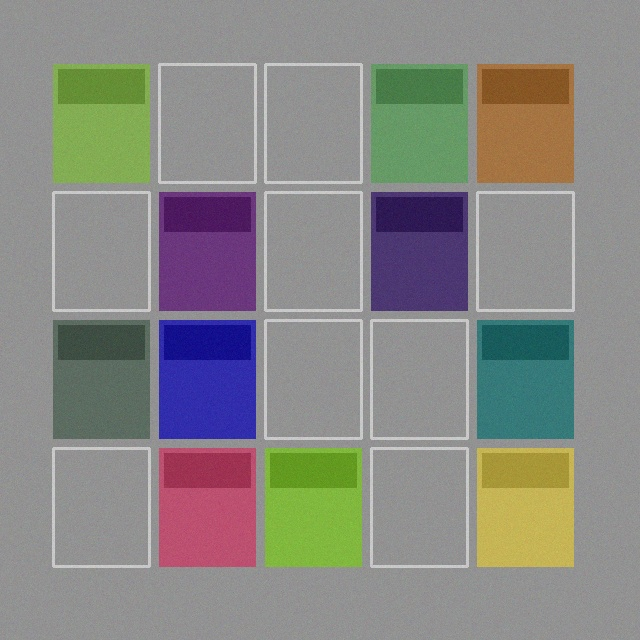space-empty: (159, 64, 255, 182), (265, 64, 361, 182), (53, 192, 149, 310), (265, 192, 361, 310), (477, 192, 573, 310), (265, 320, 361, 438), (371, 320, 467, 438), (53, 448, 149, 566), (371, 448, 467, 566)
space-occupied: (53, 64, 149, 182), (371, 64, 467, 182), (477, 64, 573, 182), (159, 192, 255, 310), (371, 192, 467, 310), (53, 320, 149, 438), (159, 320, 255, 438), (477, 320, 573, 438), (159, 448, 255, 566), (265, 448, 361, 566), (477, 448, 573, 566)
